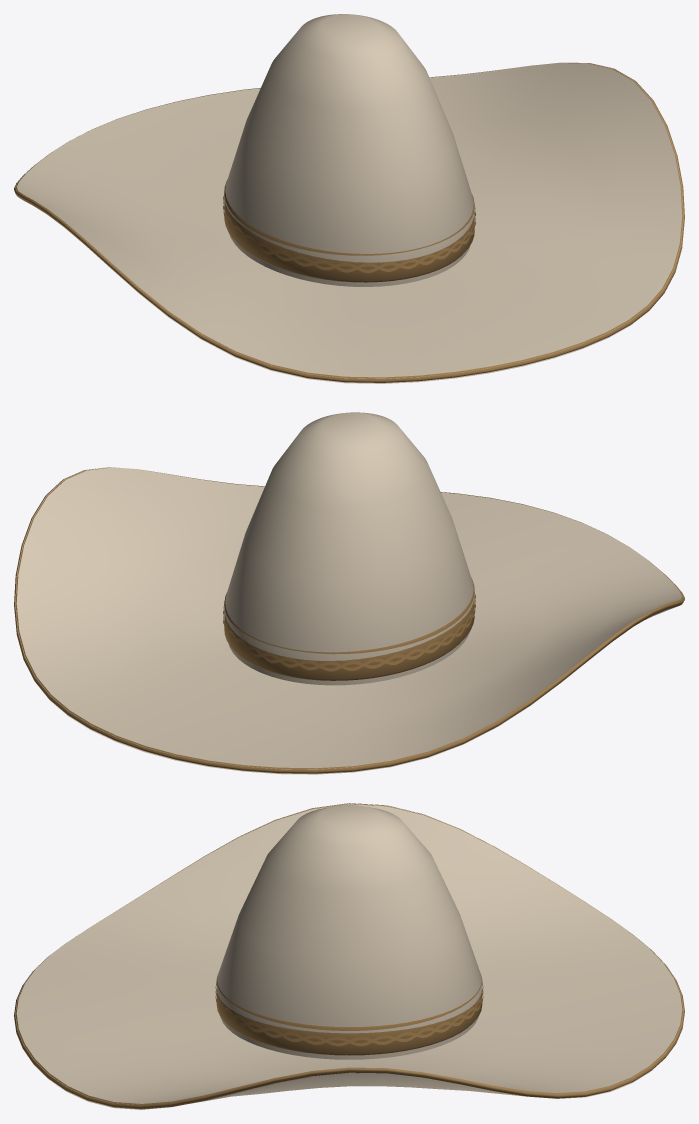
The model's file is sombrero.glb.
3 views of the same model, one above another, from view 1: azimuth 30°, elevation 25°; view 2: azimuth 150°, elevation 25°; view 3: azimuth 270°, elevation 25° (orthographic). The views are drawn at different scales.
Visible parts, largest first — view 1: Felt upper brim, Felt crown, Bound brim edge, Fitted hatband, Braided cord, Braided cord.001, Felt under brim; view 2: Felt upper brim, Felt crown, Bound brim edge, Fitted hatband, Braided cord, Braided cord.001, Felt under brim; view 3: Felt upper brim, Felt crown, Fitted hatband, Bound brim edge, Felt under brim, Braided cord, Braided cord.001.
Part boxes in pixels (x1,y1,x2,y2): Felt upper brim: [15, 62, 683, 378]; Felt crown: [224, 14, 474, 286]; Bound brim edge: [14, 63, 684, 382]; Fitted hatband: [224, 180, 474, 282]; Braided cord: [223, 196, 475, 272]; Braided cord.001: [223, 199, 475, 273]; Felt under brim: [16, 195, 663, 383]; Felt upper brim: [15, 467, 683, 769]; Felt crown: [224, 412, 474, 685]; Bound brim edge: [14, 467, 684, 773]; Fitted hatband: [224, 578, 474, 680]; Braided cord: [223, 595, 475, 671]; Braided cord.001: [223, 594, 475, 670]; Felt under brim: [35, 603, 682, 774]; Felt upper brim: [15, 803, 683, 1104]; Felt crown: [216, 805, 482, 1059]; Fitted hatband: [216, 975, 482, 1055]; Bound brim edge: [14, 803, 684, 1109]; Felt under brim: [34, 1046, 674, 1109]; Braided cord: [215, 983, 483, 1046]; Braided cord.001: [215, 983, 483, 1046].
Bounding box in the file's own units: 0.4798 × 0.1716 × 0.5079.
